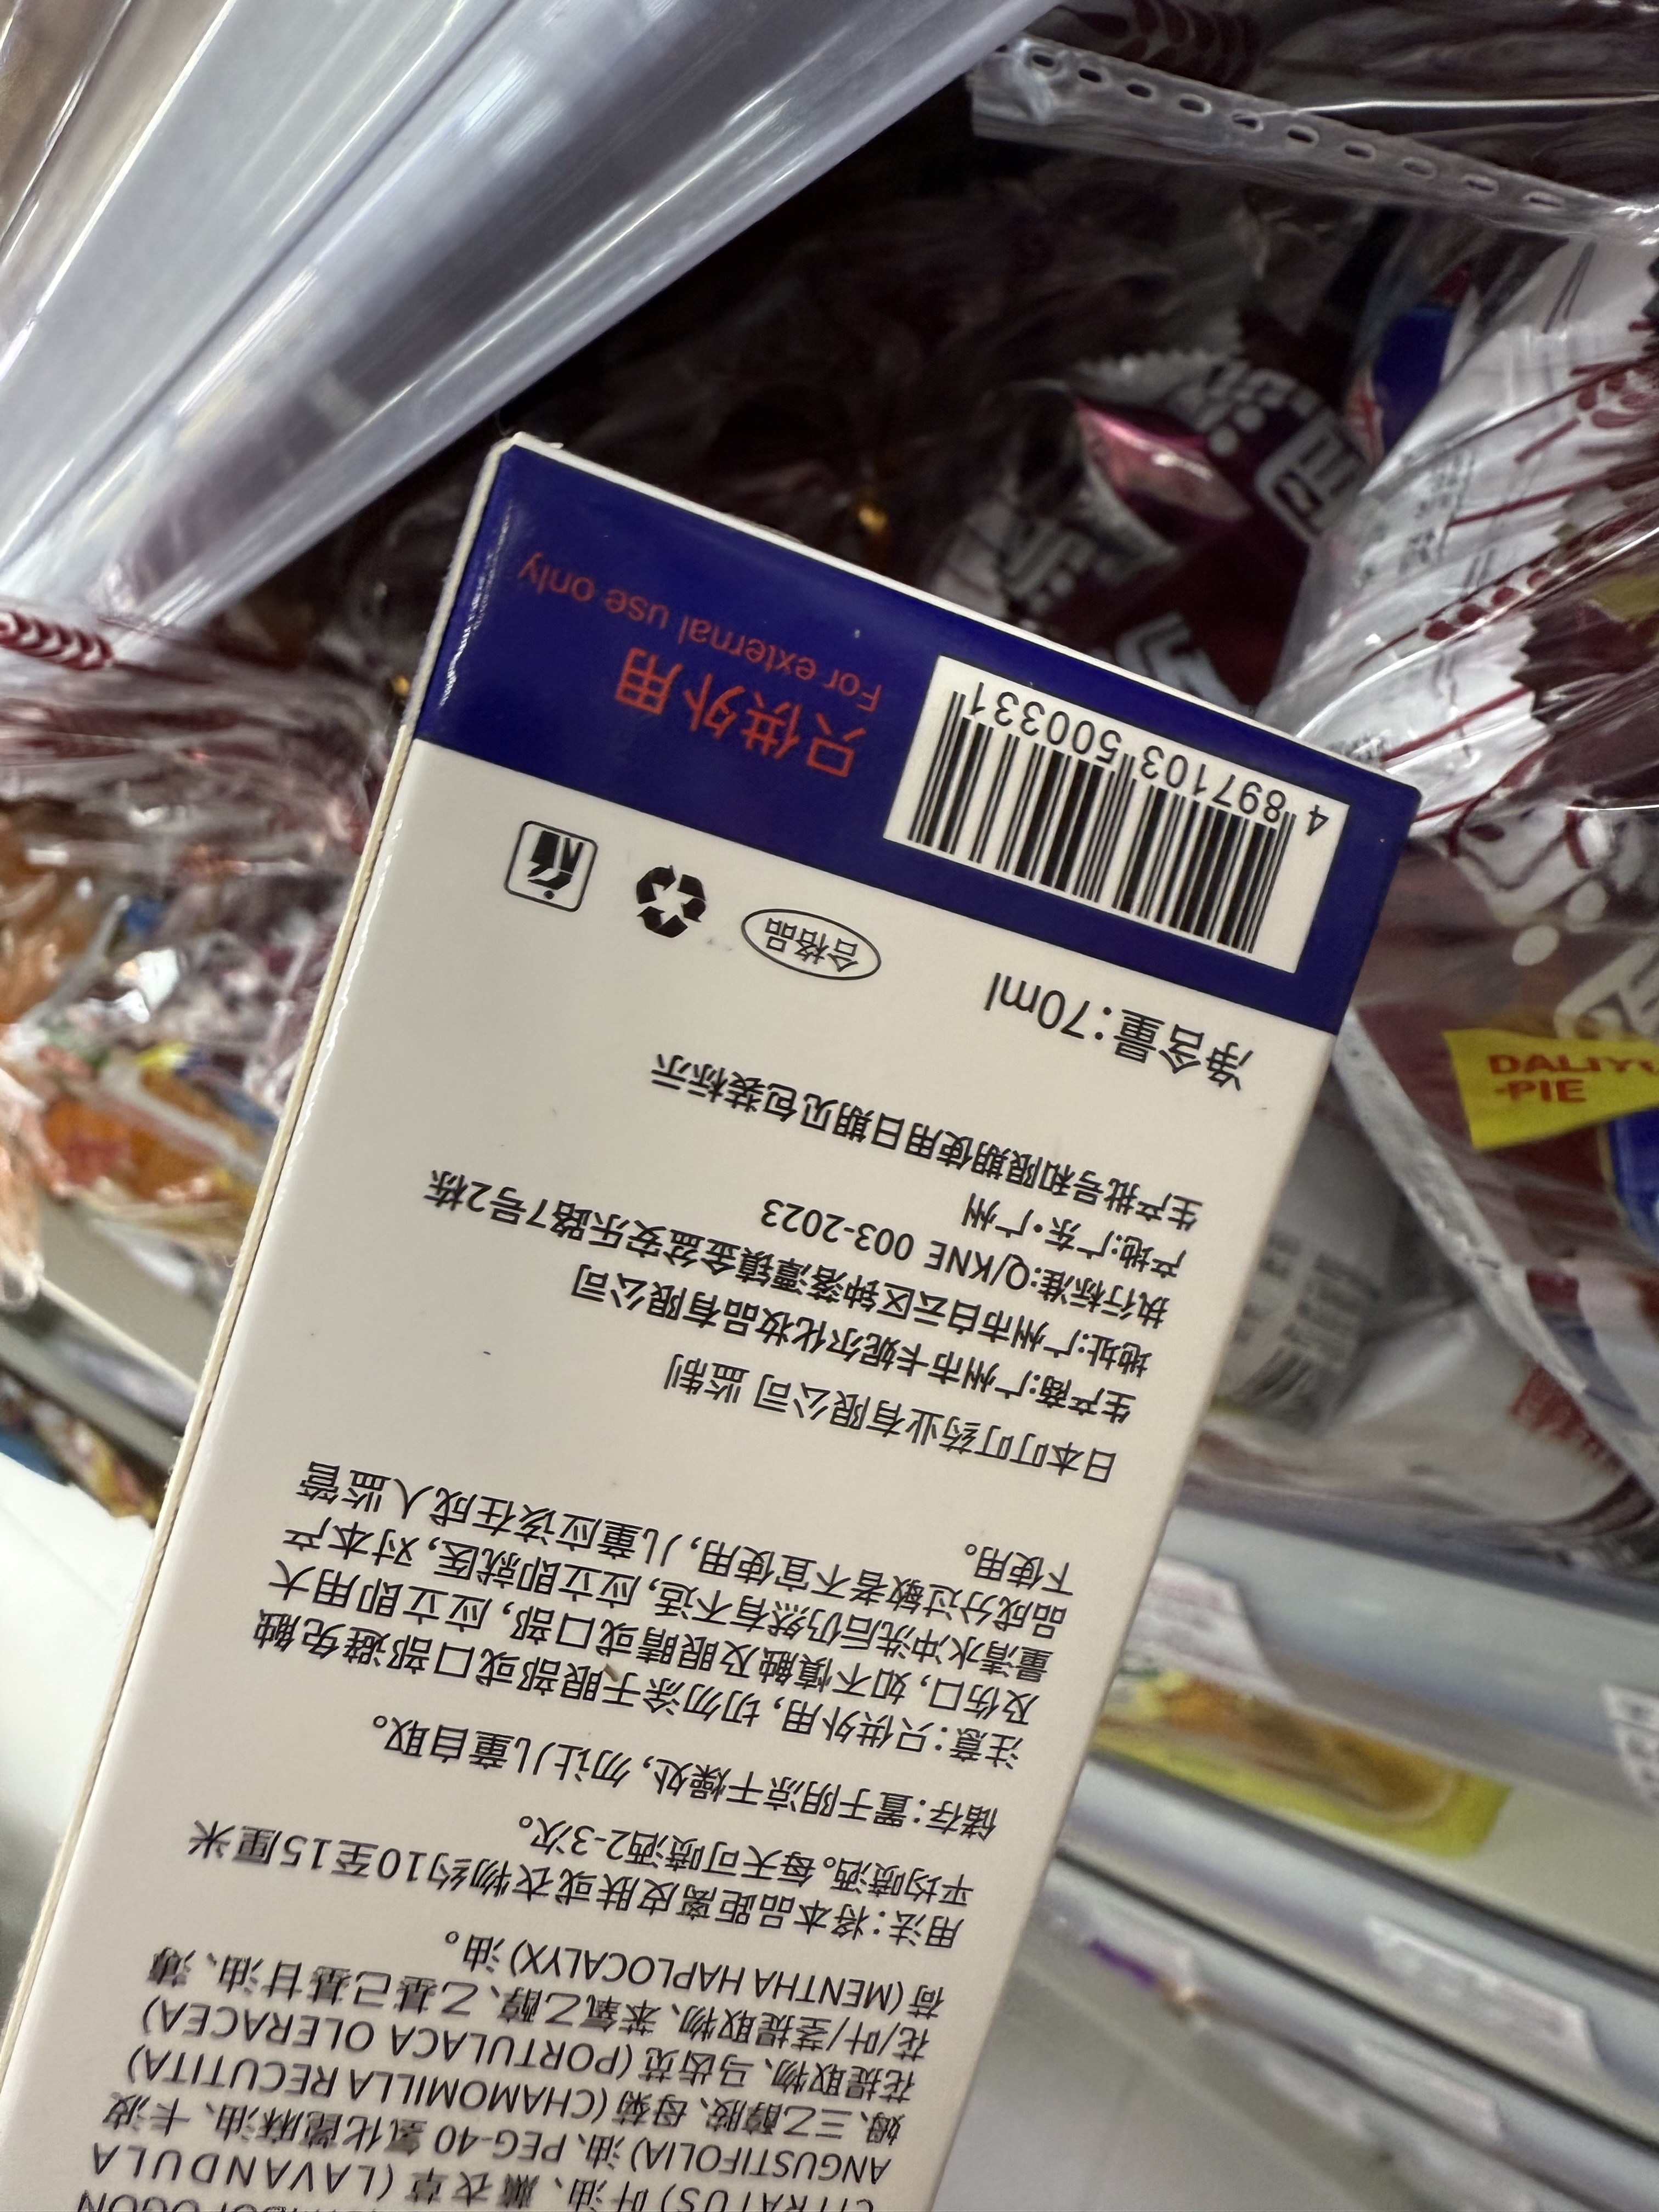bar: (899, 681, 1305, 972)
